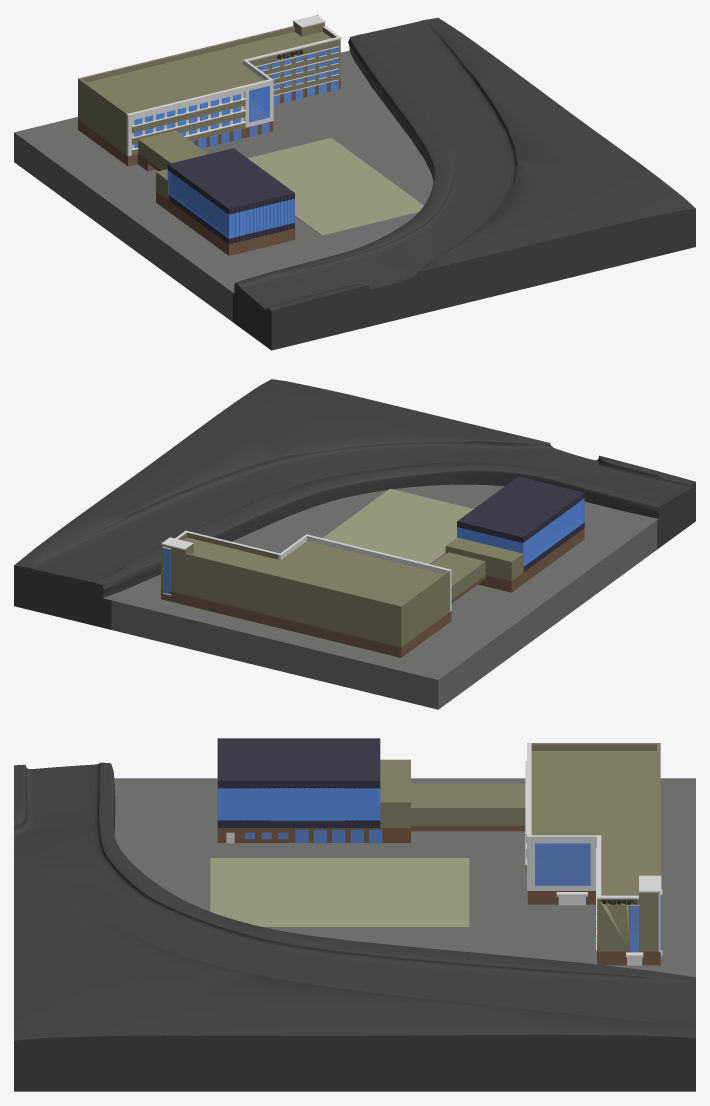
File: heukseok.glb
3 renders of one model, top to bottom at view 1: azimuth 30°, elevation 25°; view 2: azimuth 150°, elevation 25°; view 3: azimuth 270°, elevation 25°, orthographic. The views are drawn at different scales.
Parts seen in each view (by area): view 1: road.002, g, 본관 1층, send, 체육관 (1) (2) (1), 체육관 (1) (2), 본관 1층.005, Body137, Body144, 체육관 (1) (1), 본관 1층.003, 통로 (+4 smaller); view 2: road.002, g, 본관 1층, send, 체육관 (1) (2) (1), 본관 1층.003, 체육관 (1) (2), 별관 상층, 본관 1층.005, 통로, 체육관 (1) (1), 본관 1층.011; view 3: road.002, g, 본관 1층, send, 체육관 (1) (2) (1), 체육관 (1) (2), 통로, 본관 1층.003, 본관 1층.007, 체육관 (1) (1), 별관 상층, 본관 1층.005 (+3 smaller).
Boxes of the visible parts, x1=… form: road.002: x1=234, y1=17, x2=695, y2=330; g: x1=14, y1=50, x2=695, y2=350; 본관 1층: x1=78, y1=15, x2=340, y2=154; send: x1=247, y1=137, x2=423, y2=235; 체육관 (1) (2) (1): x1=167, y1=148, x2=294, y2=244; 체육관 (1) (2): x1=167, y1=170, x2=294, y2=238; 본관 1층.005: x1=126, y1=59, x2=273, y2=156; Body137: x1=134, y1=47, x2=338, y2=147; Body144: x1=132, y1=99, x2=245, y2=155; 체육관 (1) (1): x1=156, y1=191, x2=295, y2=255; 본관 1층.003: x1=78, y1=67, x2=340, y2=166; 통로: x1=137, y1=130, x2=207, y2=170; road.002: x1=14, y1=379, x2=695, y2=597; g: x1=14, y1=484, x2=695, y2=709; 본관 1층: x1=161, y1=532, x2=449, y2=647; send: x1=322, y1=489, x2=473, y2=564; 체육관 (1) (2) (1): x1=457, y1=476, x2=584, y2=572; 본관 1층.003: x1=161, y1=589, x2=451, y2=657; 체육관 (1) (2): x1=457, y1=498, x2=584, y2=566; 별관 상층: x1=445, y1=537, x2=523, y2=581; 본관 1층.005: x1=278, y1=534, x2=451, y2=611; 통로: x1=431, y1=552, x2=485, y2=599; 체육관 (1) (1): x1=478, y1=528, x2=584, y2=592; 본관 1층.011: x1=161, y1=530, x2=279, y2=595; road.002: x1=14, y1=762, x2=695, y2=1063; g: x1=14, y1=778, x2=695, y2=1091; 본관 1층: x1=531, y1=743, x2=660, y2=951; send: x1=210, y1=858, x2=469, y2=927; 체육관 (1) (2) (1): x1=217, y1=738, x2=380, y2=828; 체육관 (1) (2): x1=217, y1=788, x2=380, y2=820; 통로: x1=411, y1=783, x2=525, y2=825; 본관 1층.003: x1=528, y1=844, x2=660, y2=965; 본관 1층.007: x1=535, y1=843, x2=661, y2=954; 체육관 (1) (1): x1=217, y1=828, x2=410, y2=842; 별관 상층: x1=380, y1=759, x2=410, y2=827; 본관 1층.005: x1=527, y1=743, x2=601, y2=890.
Bounding box in the file's own units: 283 × 55.2 × 298.
